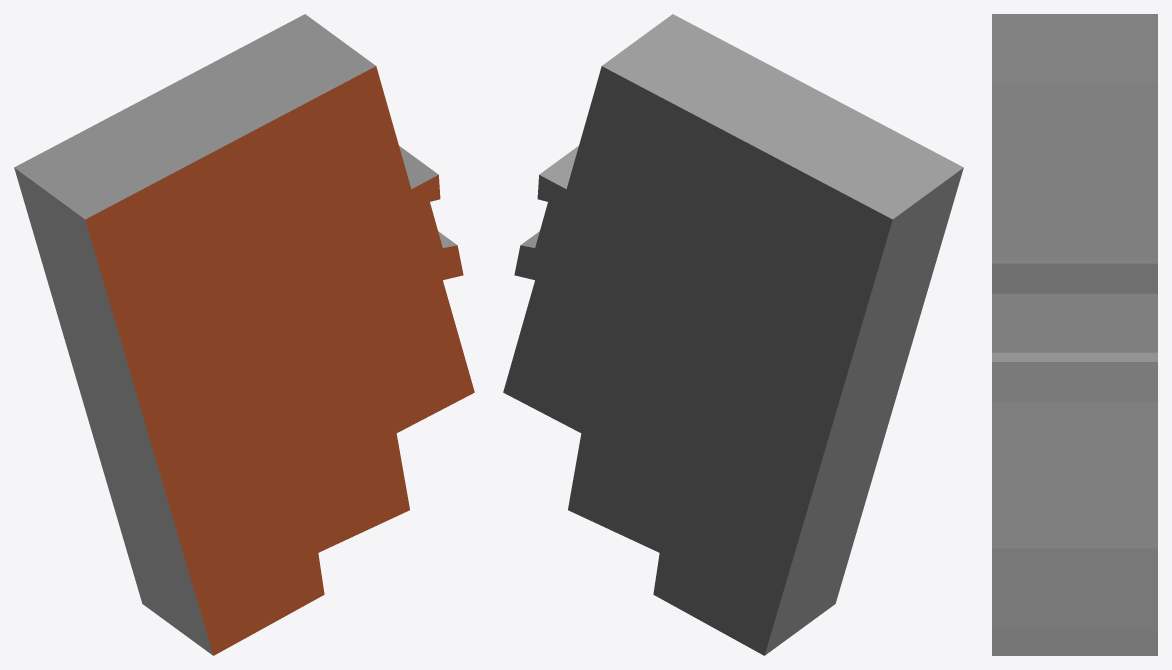
File: construction_4883_assumed_A_Casa_h6m.obj
The picture shows the model from 3 angles, left to right: view 1: azimuth 30°, elevation 25°; view 2: azimuth 150°, elevation 25°; view 3: azimuth 270°, elevation 25°; orthographic projection. The views are drawn at different scales.
Parts seen in each view (by area): view 1: construction_4883_assumed_A_Casa; view 2: construction_4883_assumed_A_Casa; view 3: construction_4883_assumed_A_Casa.
Boxes of the visible parts, x1,y1,x2,y2 form: construction_4883_assumed_A_Casa: [14, 14, 474, 655]; construction_4883_assumed_A_Casa: [503, 14, 963, 655]; construction_4883_assumed_A_Casa: [992, 14, 1157, 655].
Size of the model in its own units: 18.98 by 25.61 by 6.
